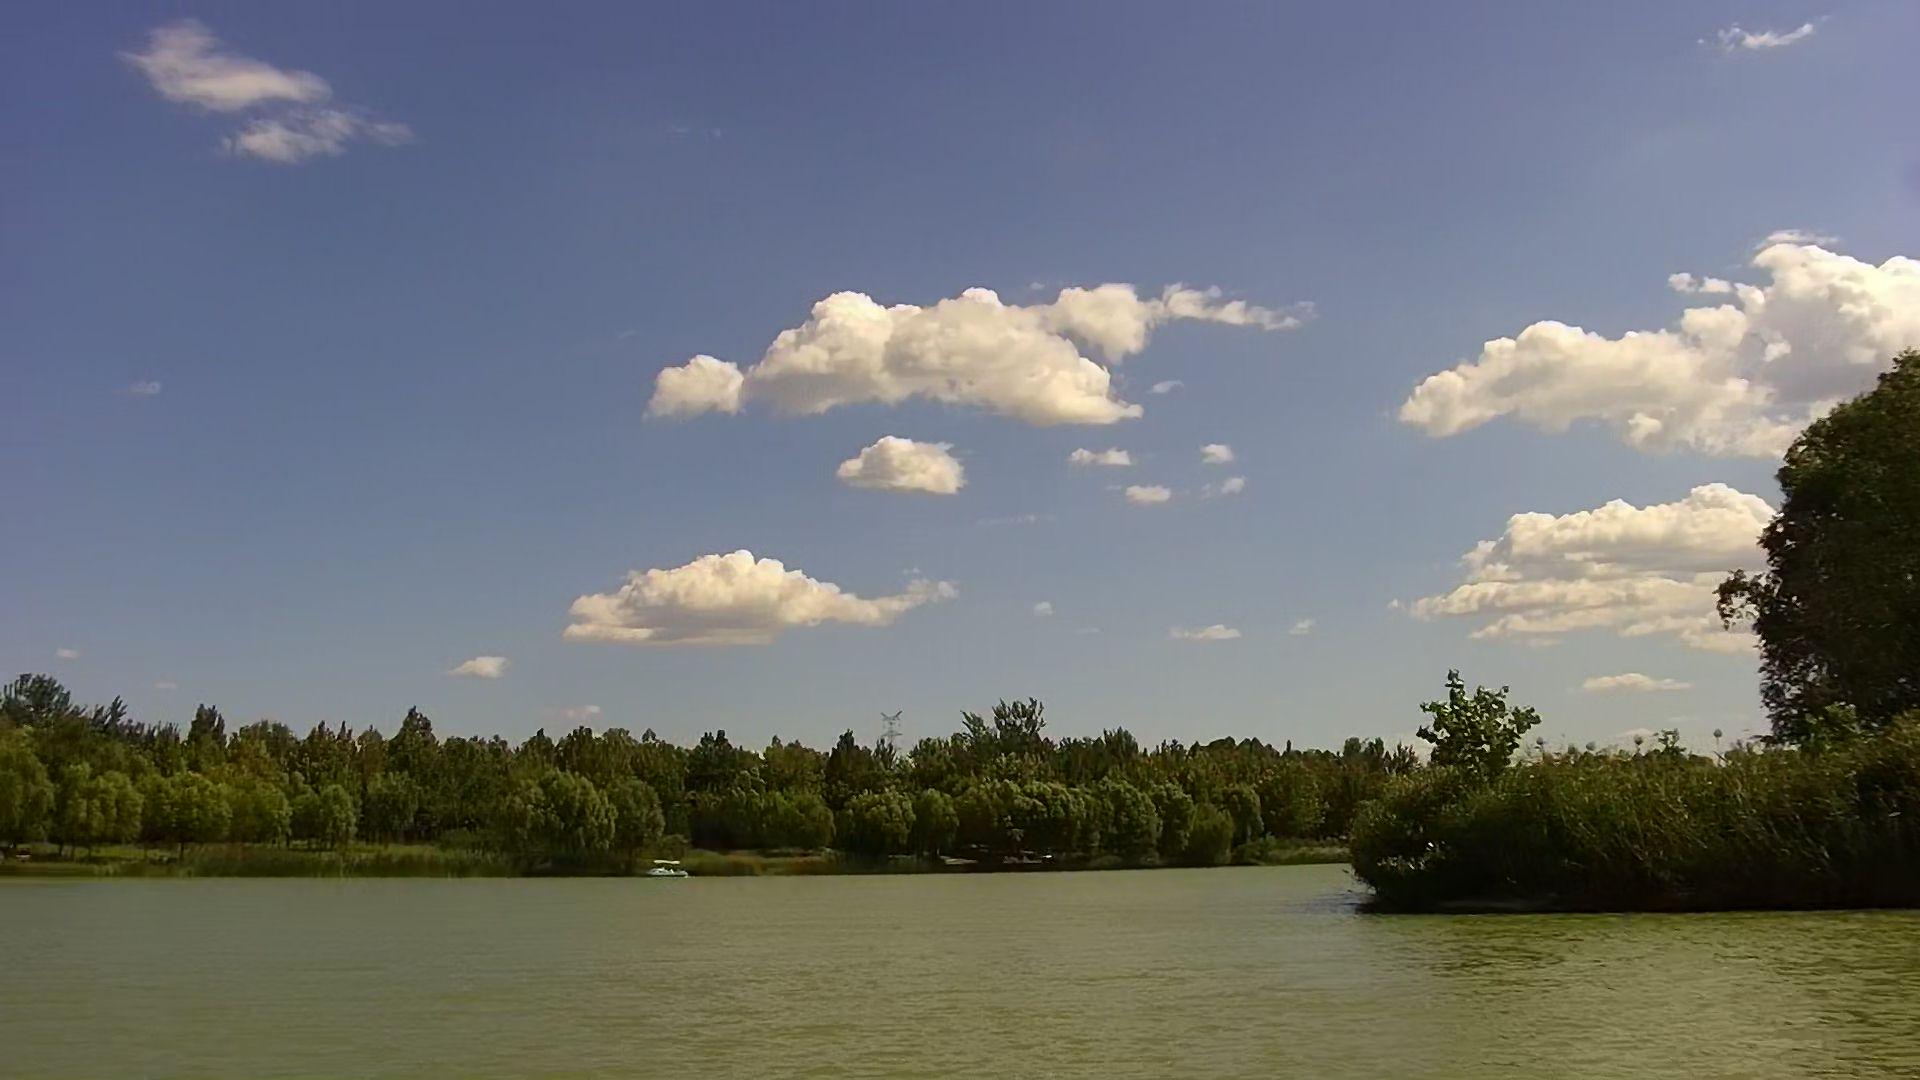boat: (642, 856, 691, 880)
